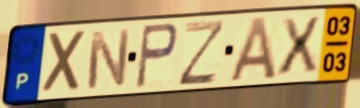A: (227, 14, 279, 85)
N: (85, 27, 132, 92)
P: (133, 21, 180, 91)
X: (41, 28, 90, 97), (276, 14, 323, 78)
Z: (176, 18, 228, 89)
